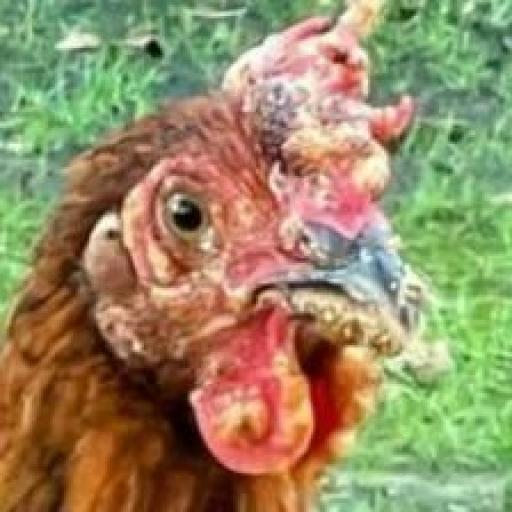disease: (76, 3, 469, 469)
